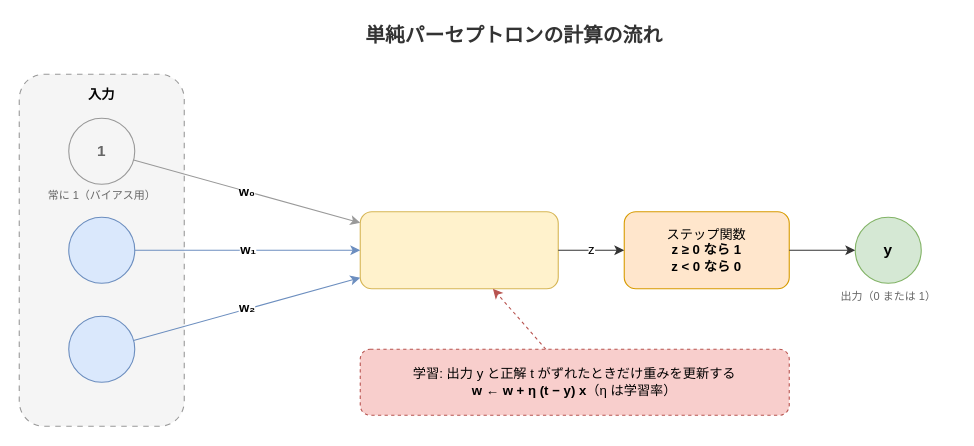
Image size: 974x446. Some labels were removed from this diagram. Each missing label, with the centre of its shape:
"x₁" goes at (101,249).
"x₂" goes at (101,348).
"重み付き和 z = w₀ + w₁x₁ + w₂x₂" goes at (458,250).
